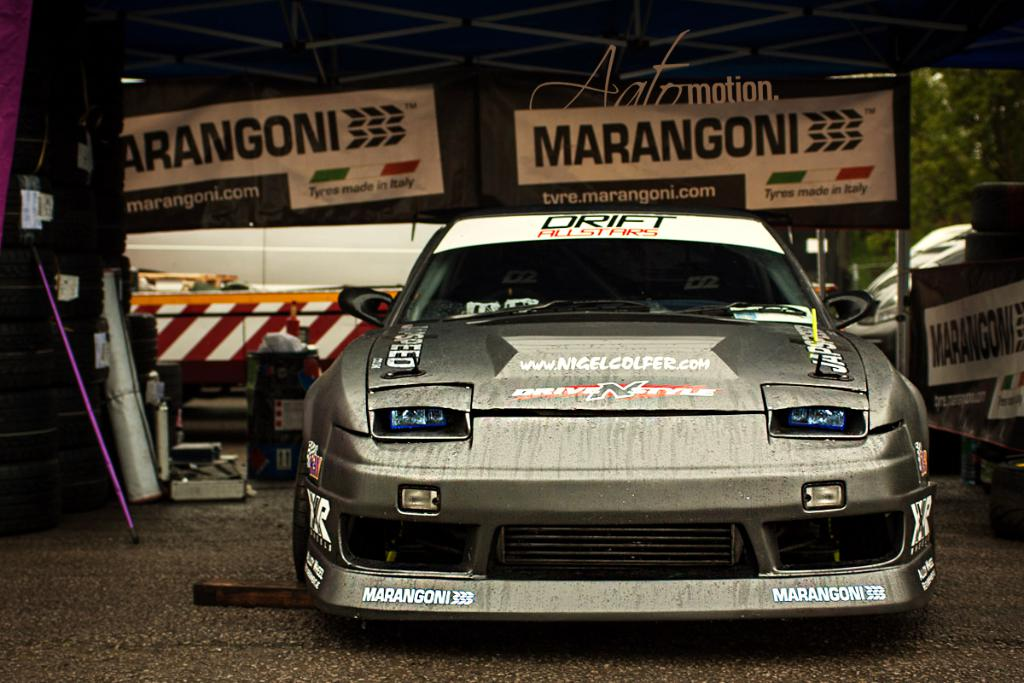cars: (295, 198, 951, 680)
